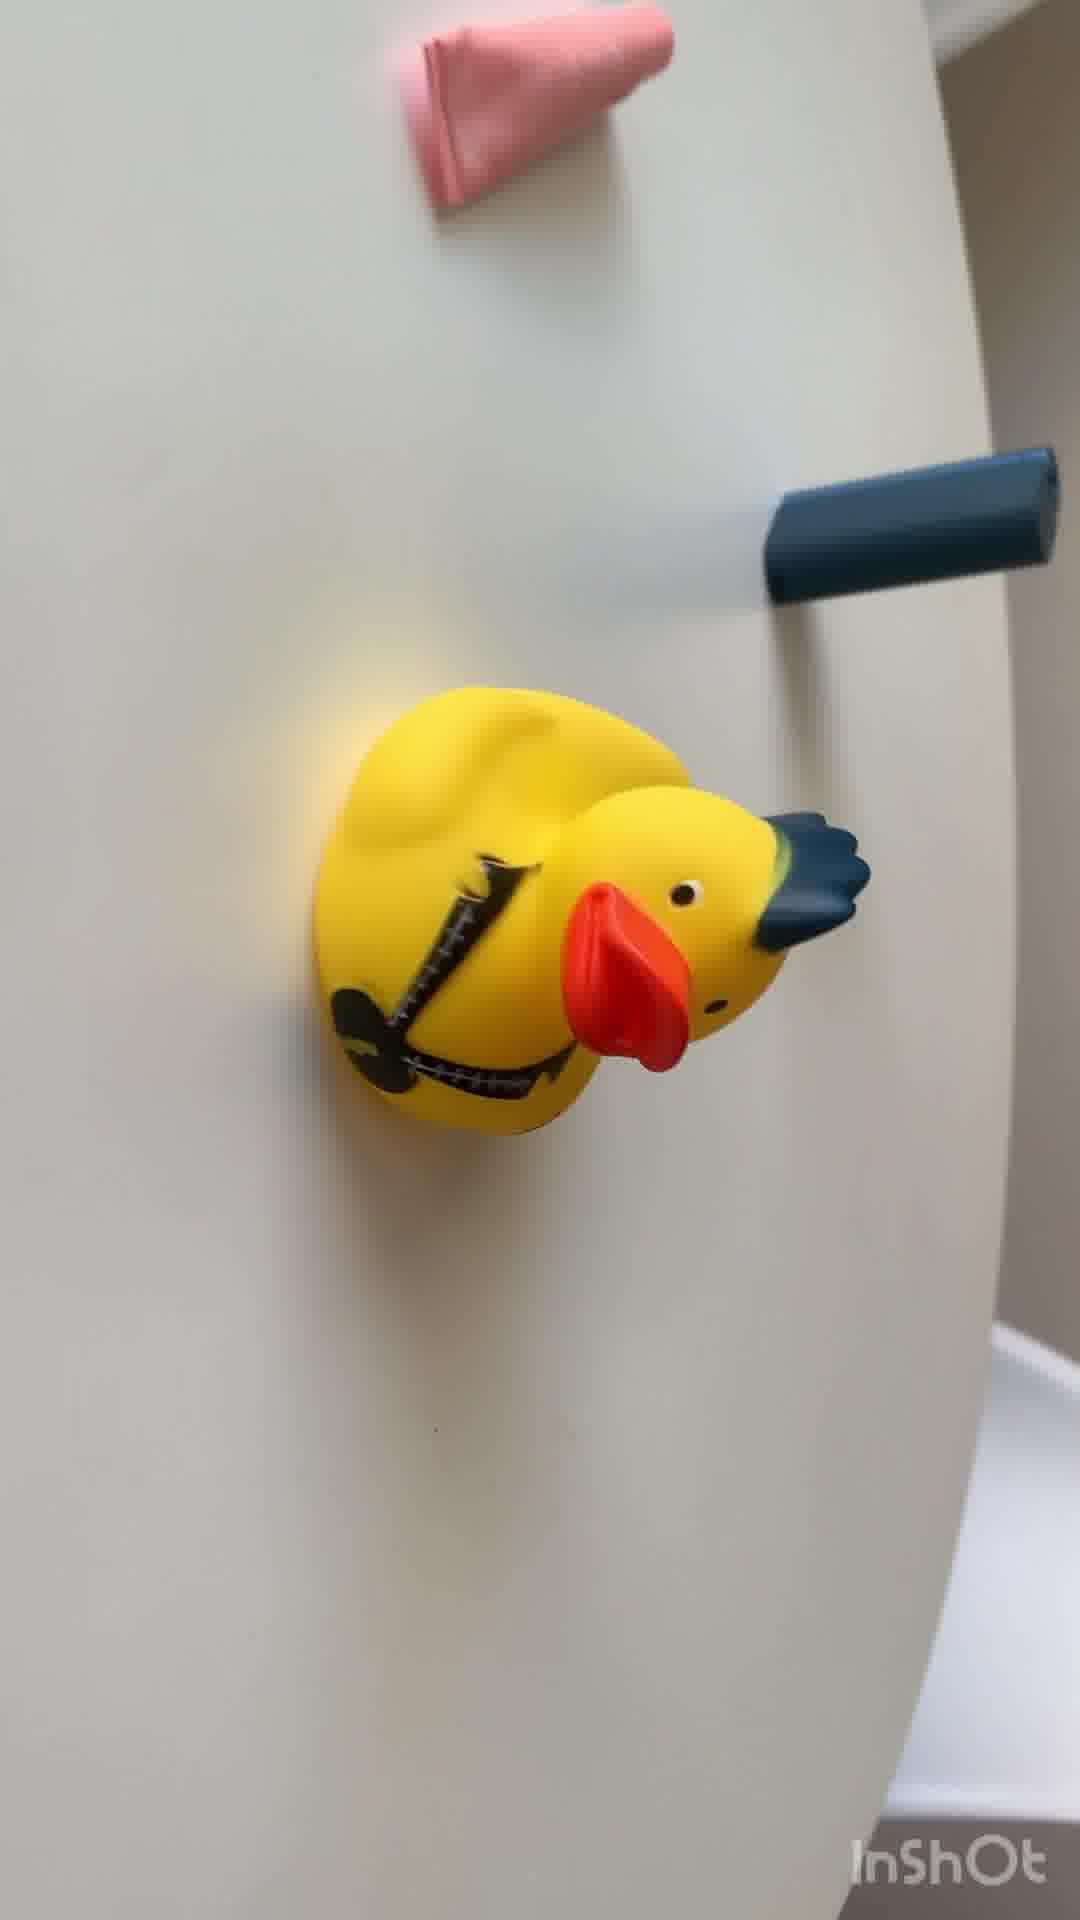duck: (318, 682, 872, 1145)
glo: (767, 436, 1062, 611)
lip balm: (410, 1, 684, 223)
